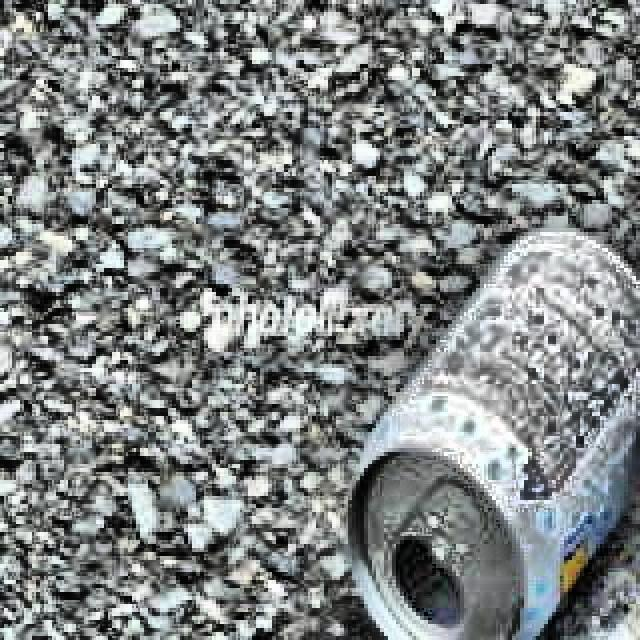metal: (346, 220, 640, 640)
